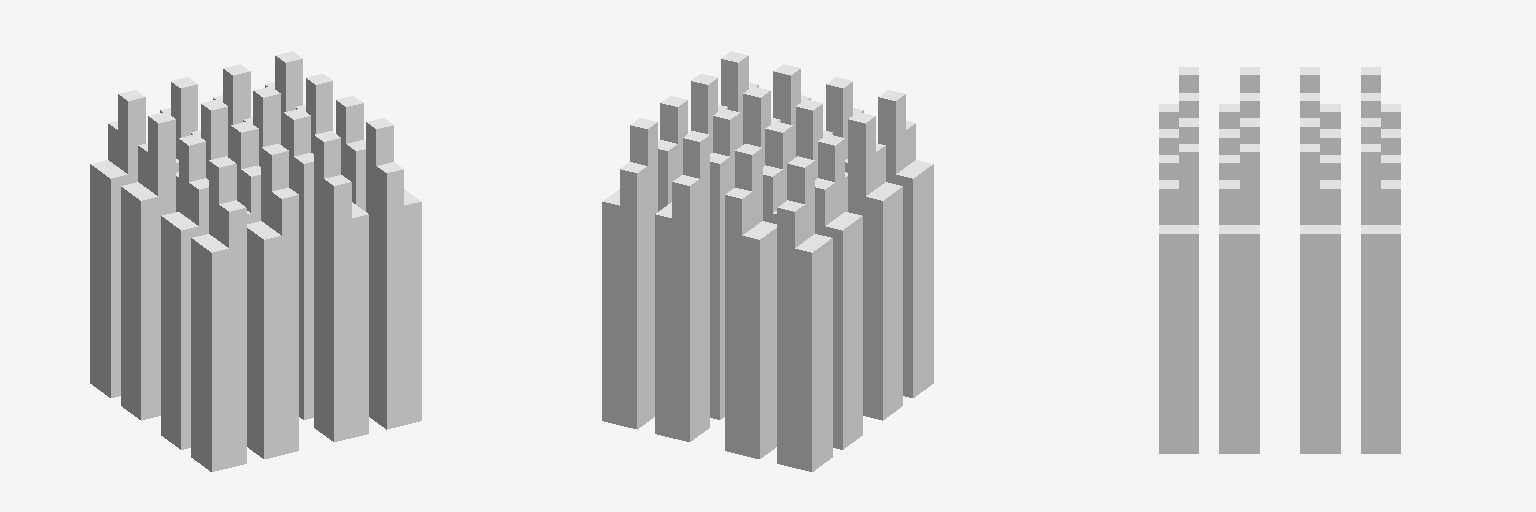
Rendered from block_trap_blade.obj.
3 views of the same model, side by side, from view 1: azimuth 30°, elevation 25°; view 2: azimuth 150°, elevation 25°; view 3: azimuth 270°, elevation 25° (orthographic).
Size of the model in its own units: 0.75 by 1 by 0.75.